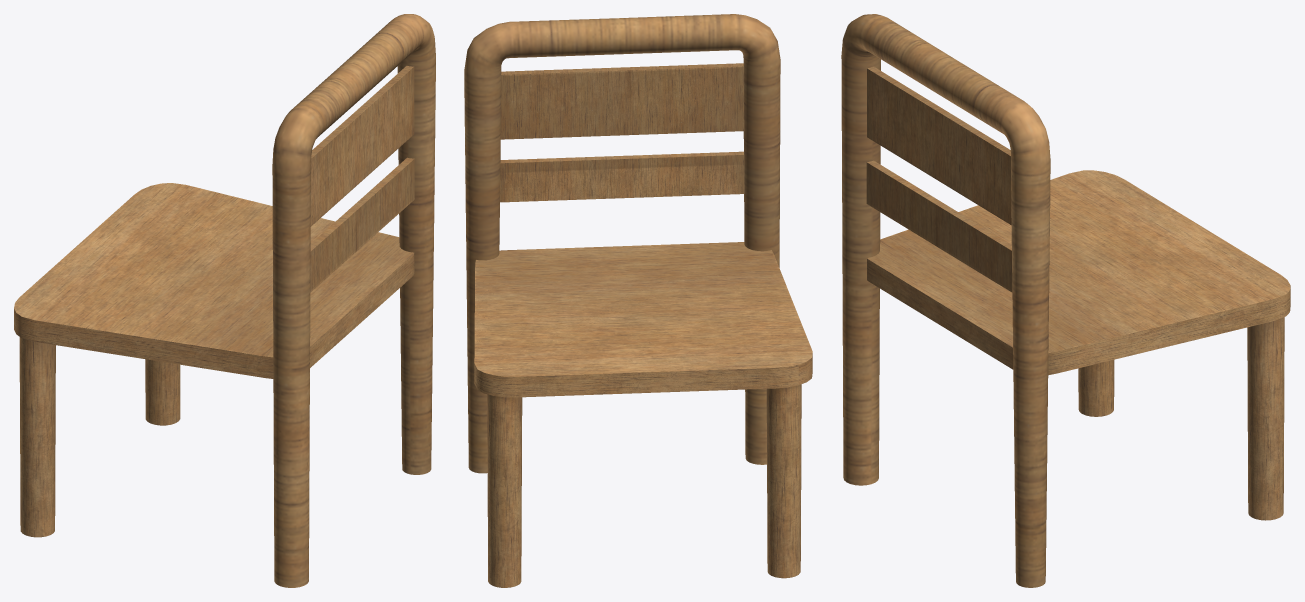
Rendered from chair_M.fbx.
The picture shows the model from 3 angles, left to right: view 1: azimuth 30°, elevation 25°; view 2: azimuth 150°, elevation 25°; view 3: azimuth 270°, elevation 25°; orthographic projection. The views are drawn at different scales.
Parts seen in each view (by area): view 1: group4_pCube6; view 2: group4_pCube6; view 3: group4_pCube6.
Boxes of the visible parts, x1,y1,x2,y2 form: group4_pCube6: (14, 14, 435, 587); group4_pCube6: (464, 14, 812, 587); group4_pCube6: (841, 14, 1290, 587).
Bounding box in the file's own units: 0.225 × 0.2576 × 0.2224.
